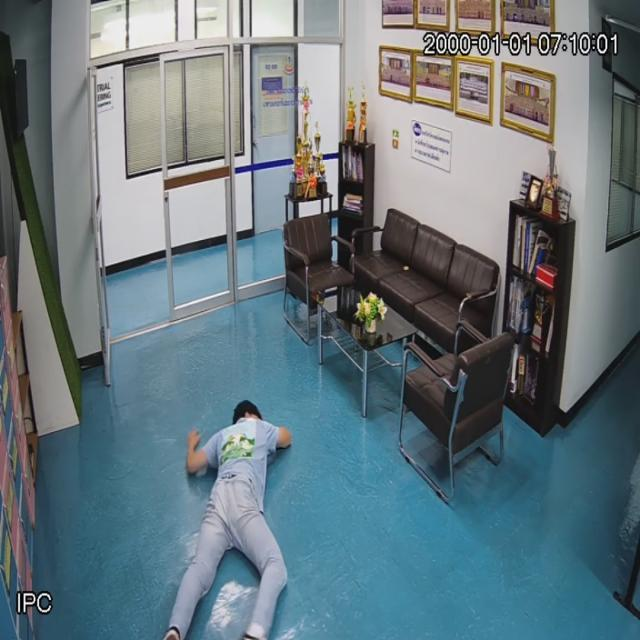fall: (169, 399, 291, 640)
